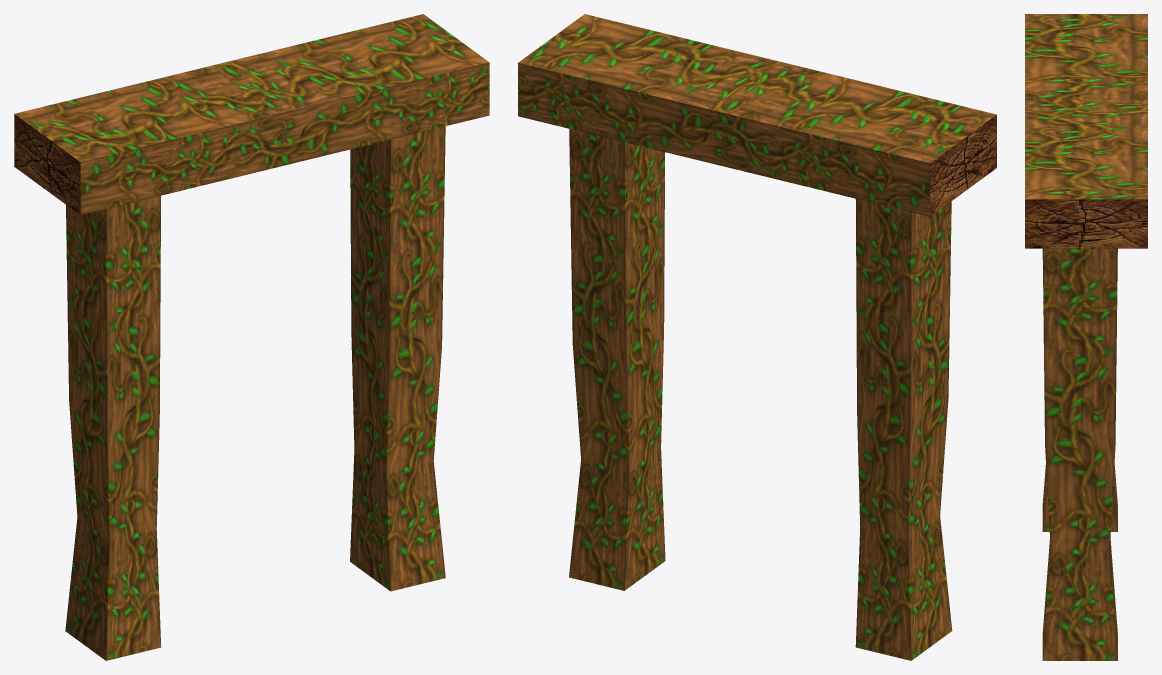
Rendered from EKH_GROTTO_PS_GR_DOORFRAME8476__GX.fbx.
The picture shows the model from 3 angles, left to right: view 1: azimuth 30°, elevation 25°; view 2: azimuth 150°, elevation 25°; view 3: azimuth 270°, elevation 25°; orthographic projection. The views are drawn at different scales.
Parts seen in each view (by area): view 1: EKH_GROTTO_PS_GR_DOORFRAME8476__GX; view 2: EKH_GROTTO_PS_GR_DOORFRAME8476__GX; view 3: EKH_GROTTO_PS_GR_DOORFRAME8476__GX.
Boxes of the visible parts, x1=… form: EKH_GROTTO_PS_GR_DOORFRAME8476__GX: x1=14, y1=14, x2=489, y2=660; EKH_GROTTO_PS_GR_DOORFRAME8476__GX: x1=518, y1=14, x2=996, y2=660; EKH_GROTTO_PS_GR_DOORFRAME8476__GX: x1=1025, y1=14, x2=1147, y2=660.
Size of the model in its own units: 21220 by 25482 by 5952.
2 materials, 2 textured.
